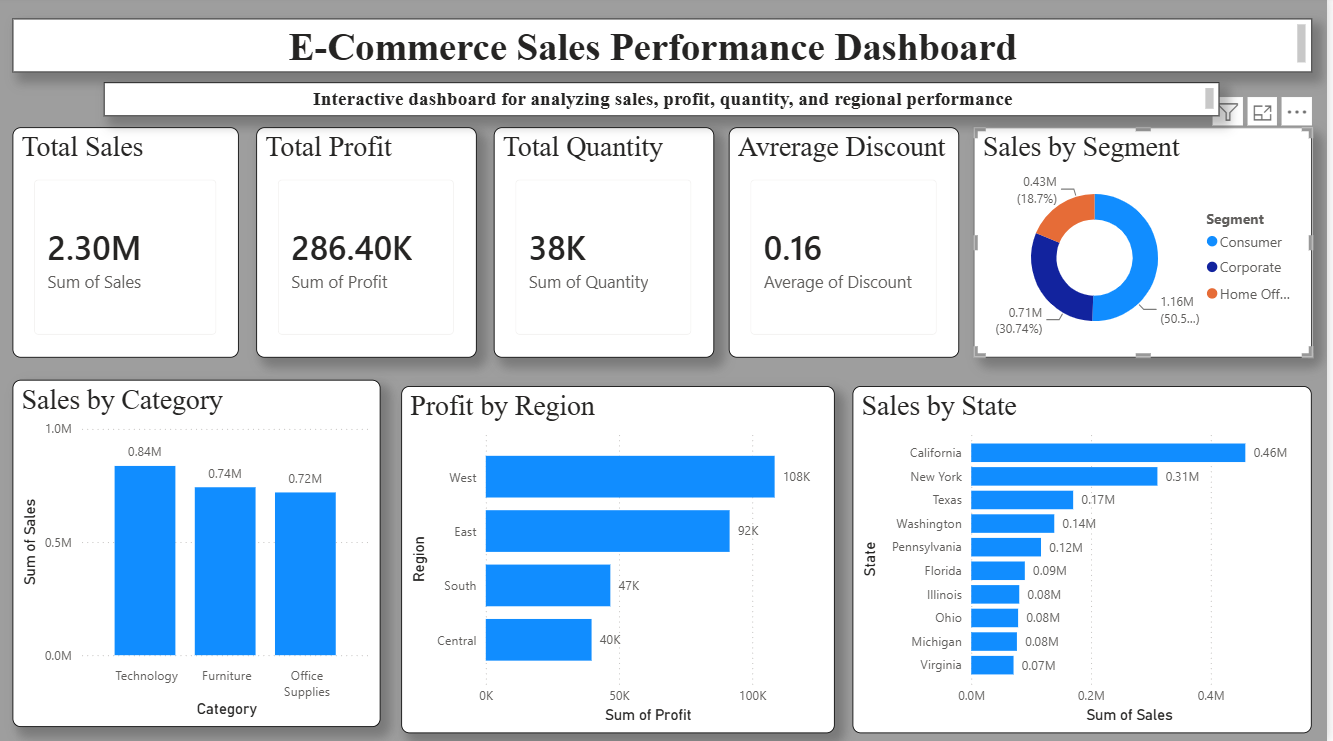

What the dashboard file says about the page in this screenshot:
{"tool":"powerbi","page":{"name":"E commerce ","canvas":[1280,720],"ordinal":0},"visuals":[{"type":"cardVisual","title":"Total Sales","fields":{"Data":["Sum(SampleSuperstore.Sales)"]},"box":[12.3,126.2,218.2,222.3],"z":0},{"type":"textbox","box":[12.3,22,1254.2,52.1],"z":1000},{"type":"cardVisual","title":"Total Profit","fields":{"Data":["Sum(SampleSuperstore.Profit)"]},"box":[247,126.2,212.7,222.3],"z":2000},{"type":"cardVisual","title":"Total Quantity","fields":{"Data":["Sum(SampleSuperstore.Quantity)"]},"box":[476.2,126.2,212.7,222.3],"z":3000},{"type":"cardVisual","title":"Avrerage Discount","fields":{"Data":["Avg(SampleSuperstore.Discount)"]},"box":[703.9,126.2,222.3,222.3],"z":4000},{"type":"clusteredColumnChart","title":"Sales by Category","fields":{"Category":["SampleSuperstore.Category"],"Y":["Sum(SampleSuperstore.Sales)"]},"box":[12.3,370.5,355.4,334.8],"z":5000},{"type":"donutChart","title":" Sales by Segment","fields":{"Y":["Sum(SampleSuperstore.Sales)"],"Category":["SampleSuperstore.Segment"]},"box":[940,126.2,326.6,222.3],"z":6000},{"type":"clusteredBarChart","title":"Profit by Region","fields":{"Category":["SampleSuperstore.Region"],"Y":["Sum(SampleSuperstore.Profit)"]},"box":[387,376,418.5,334.8],"z":7000},{"type":"clusteredBarChart","title":" Sales by State","fields":{"Y":["Sum(SampleSuperstore.Sales)"],"Category":["SampleSuperstore.State"]},"box":[823.3,376,443.2,334.8],"z":8000},{"type":"textbox","box":[100.2,83.7,1077.2,32.9],"z":9000}]}

Visuals, with their boxes in screenshot pixels (x1, y1, x2, y2), scaled from the page's 1280x720 canvas onto the 1333x741 screenshot:
"Total Sales" cardVisual: region(13, 130, 240, 359)
textbox: region(13, 23, 1319, 76)
"Total Profit" cardVisual: region(257, 130, 479, 359)
"Total Quantity" cardVisual: region(496, 130, 717, 359)
"Avrerage Discount" cardVisual: region(733, 130, 965, 359)
"Sales by Category" clusteredColumnChart: region(13, 381, 383, 726)
" Sales by Segment" donutChart: region(979, 130, 1319, 359)
"Profit by Region" clusteredBarChart: region(403, 387, 839, 732)
" Sales by State" clusteredBarChart: region(857, 387, 1319, 732)
textbox: region(104, 86, 1226, 120)
